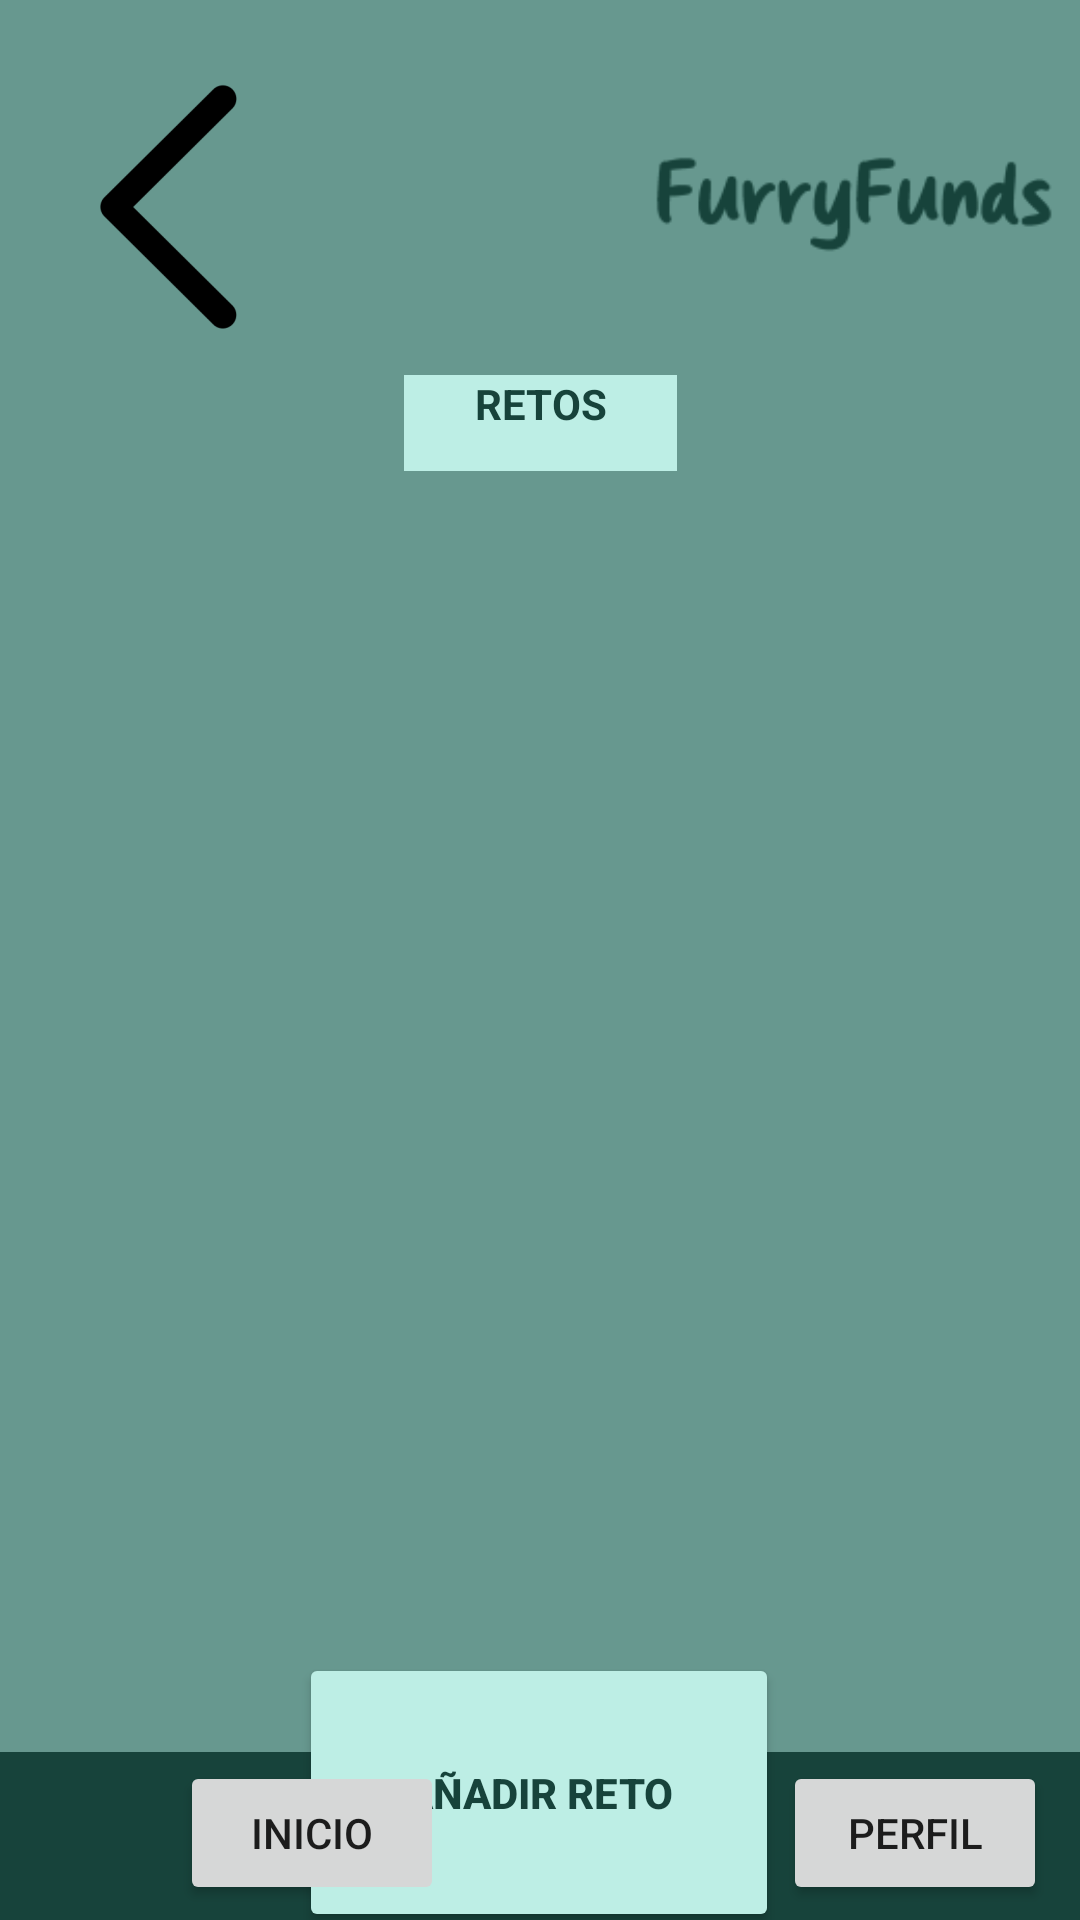

Screen size 1080px×1920px. Icon name, then its box in pixels as (x1, y1, x2, y2):
atras: (100, 85, 237, 329)
